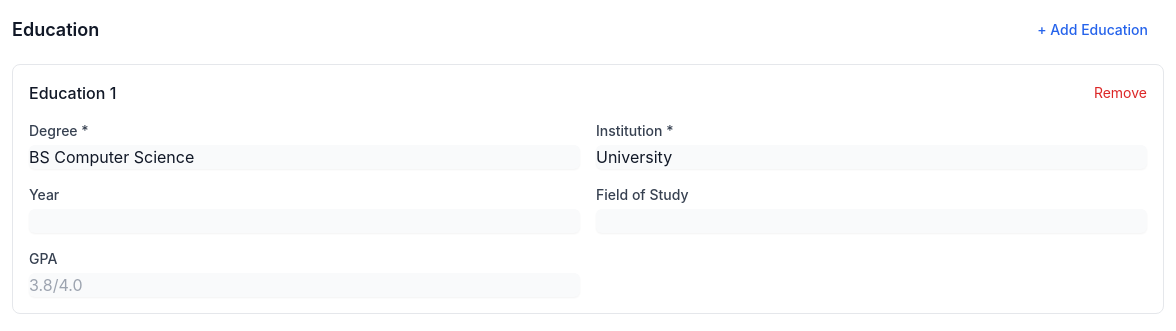
Test: Education › removes education entry
The image size is (1176, 331).
Click the button "Remove" at [1120, 93], box x1=1094 y1=83 x2=1147 y2=103
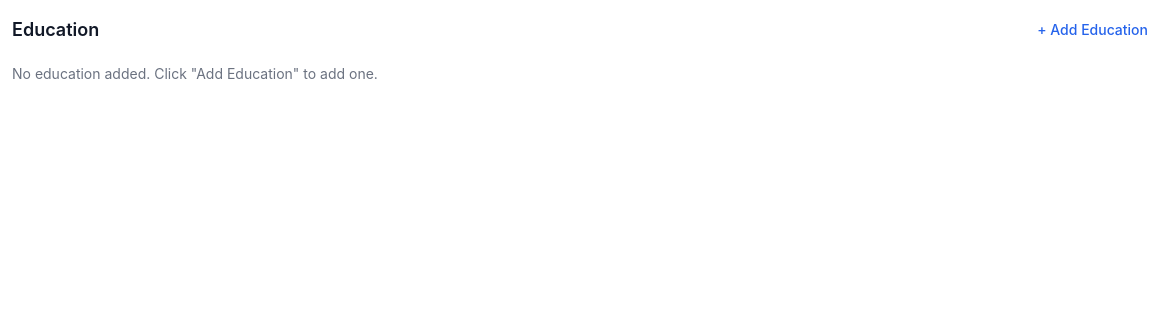
Result: the text "No education added. Click \"Add Education\" to add one." is shown at x1=12 y1=65 x2=378 y2=82
